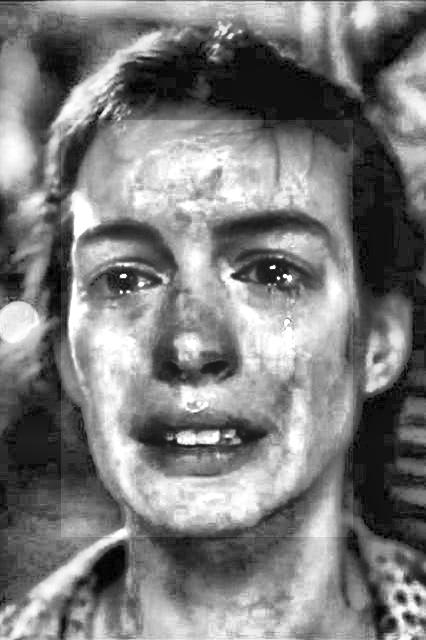sad: (61, 121, 353, 538)
